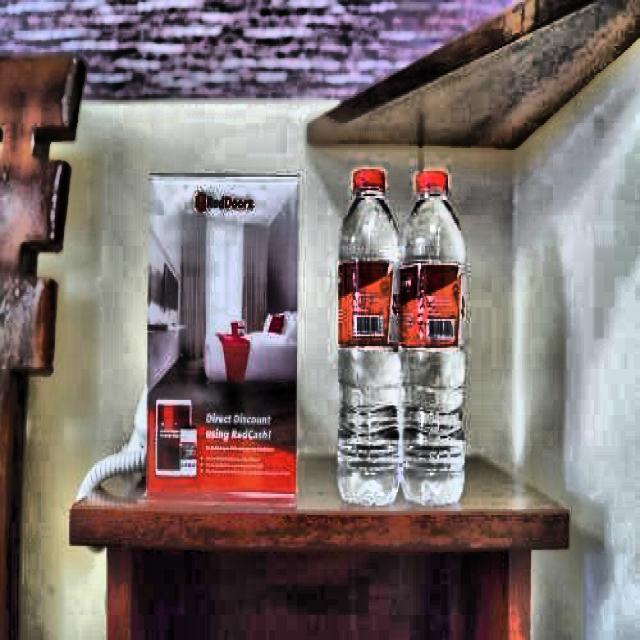Bottles: (324, 153, 408, 513)
